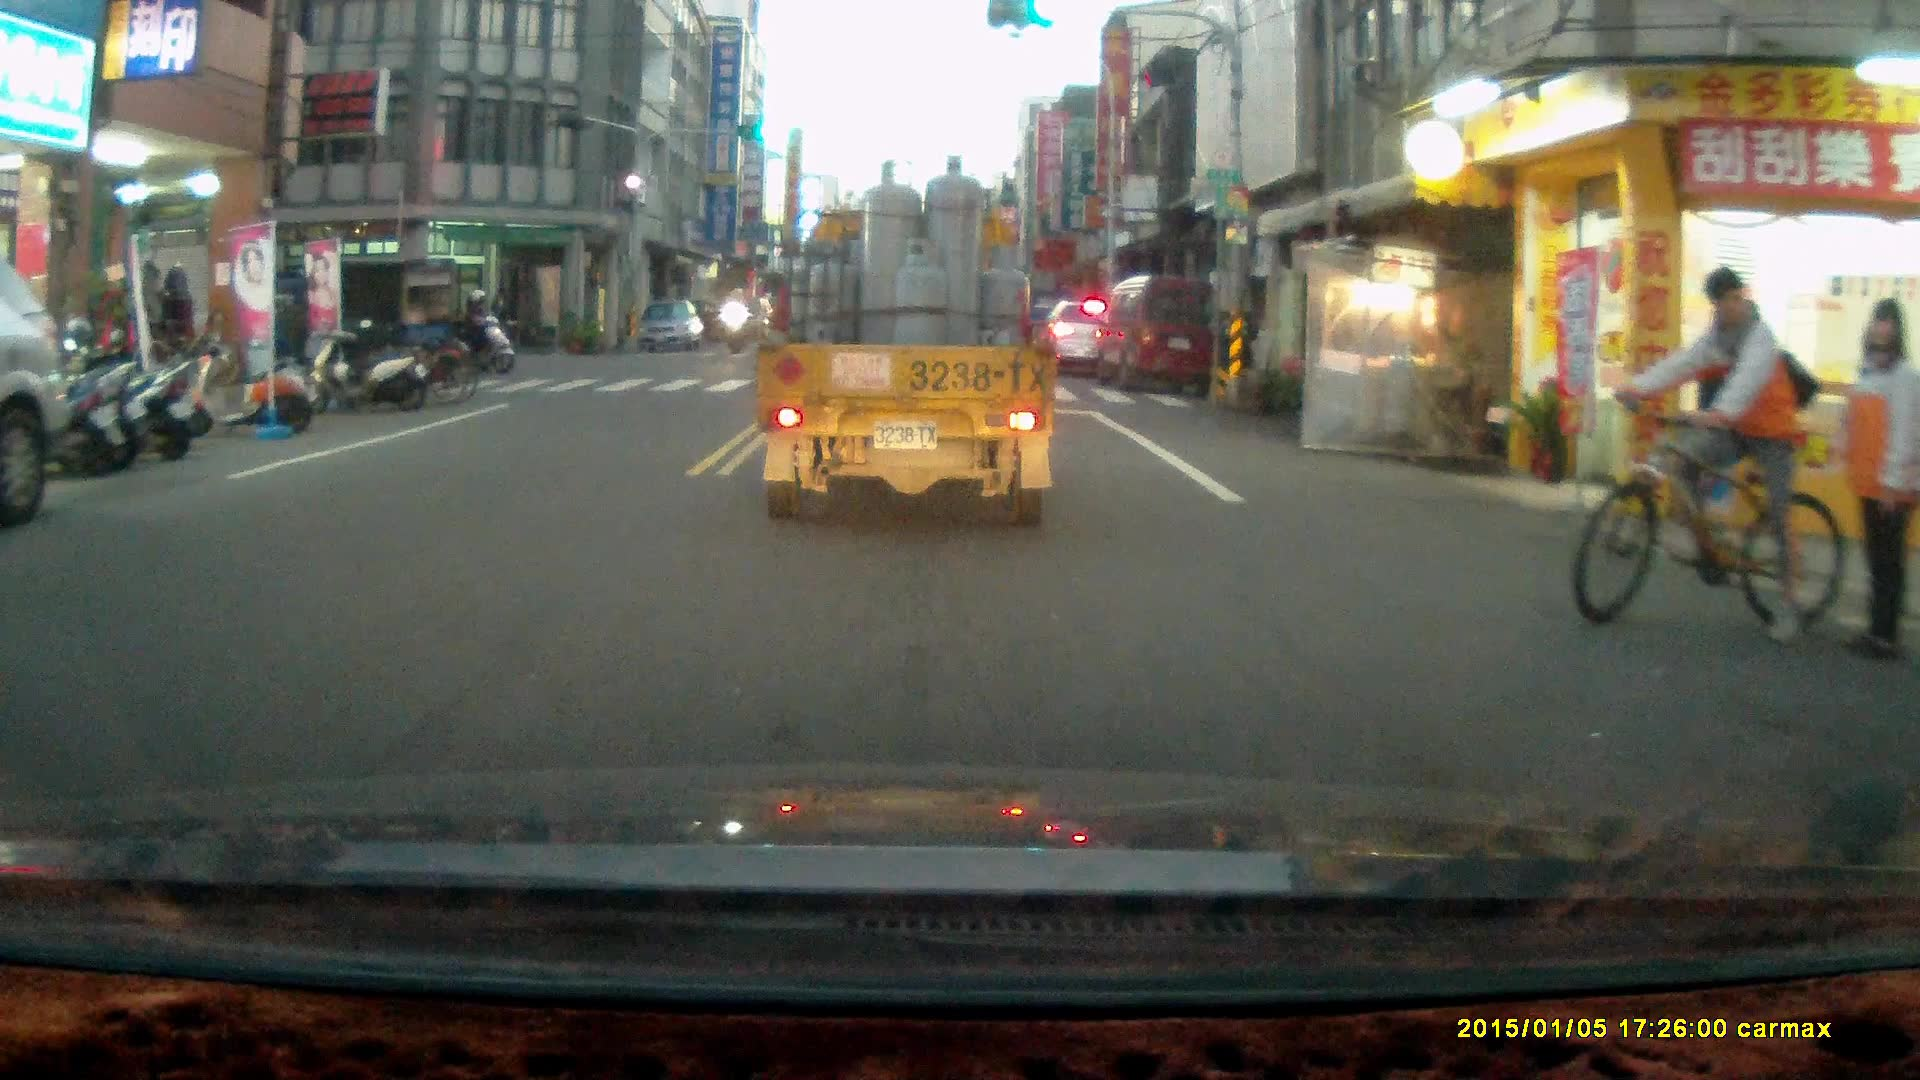pedestrian: (1837, 296, 1920, 665), (157, 265, 193, 377)
rider: (1575, 266, 1846, 649), (444, 283, 512, 374), (721, 281, 760, 352)
vehicle: (753, 160, 1047, 524), (247, 247, 468, 376), (1, 259, 70, 531), (1093, 275, 1221, 395), (1044, 298, 1119, 378), (637, 300, 705, 352)
